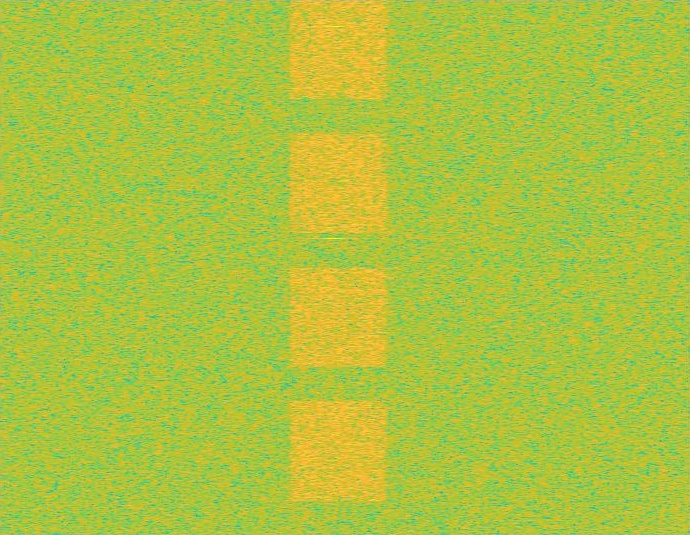5G: (287, 0, 390, 534)
Radar: (327, 0, 341, 534)
